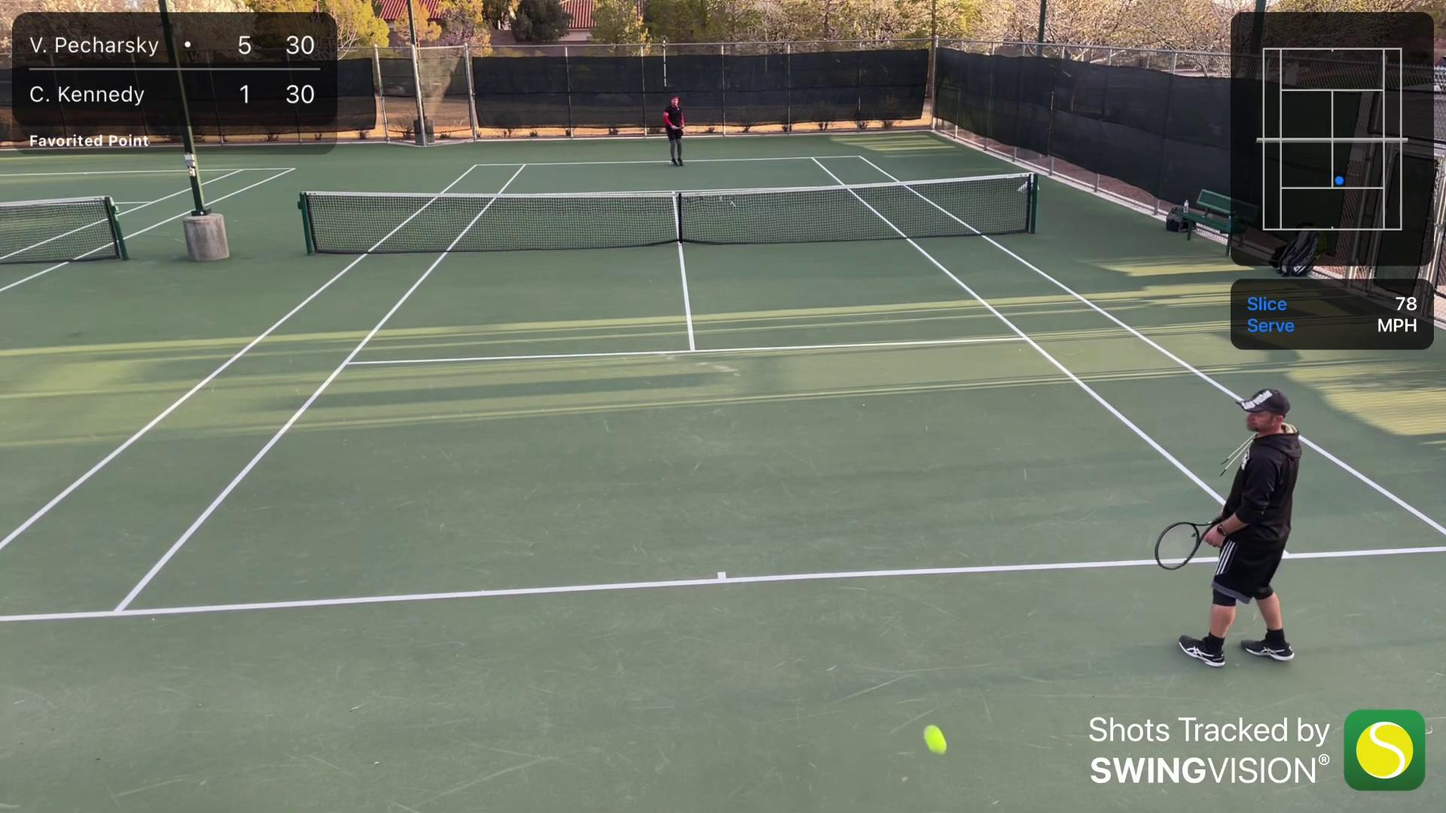ball: (920, 723, 955, 759)
